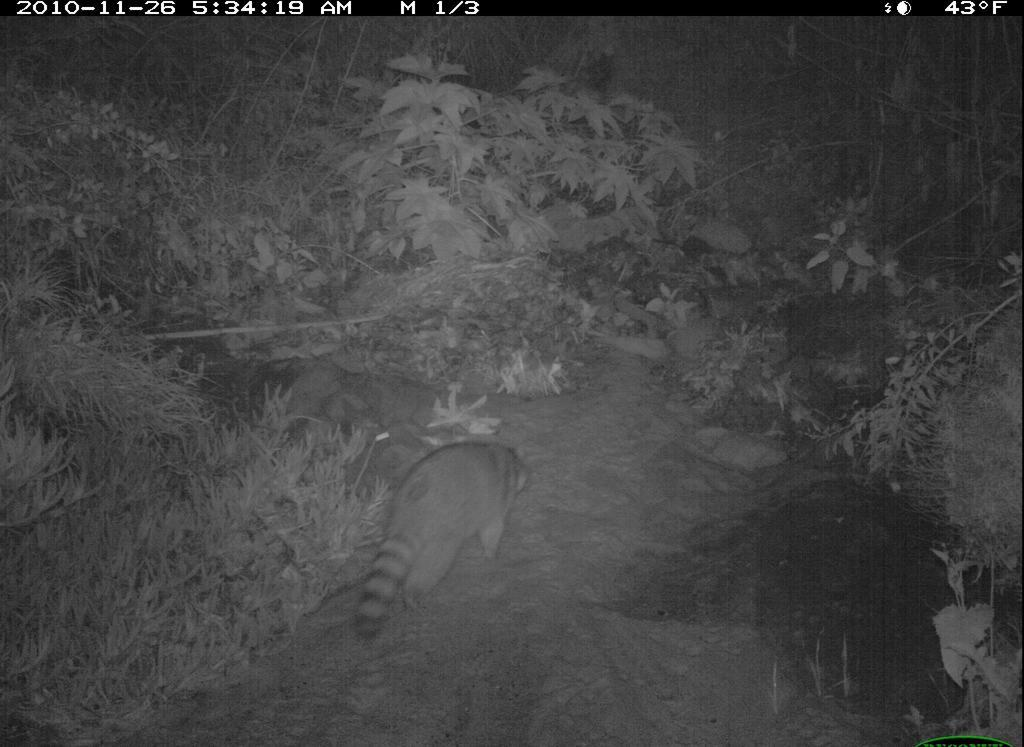raccoon: (340, 427, 542, 641)
